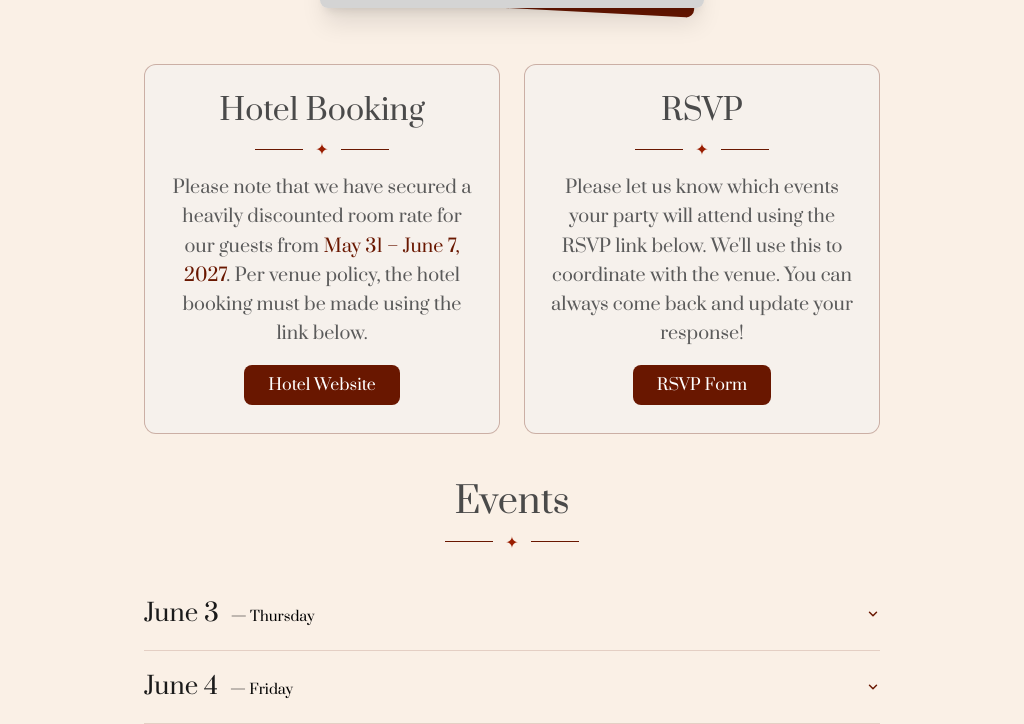
Test: RSVP form — Continue button validation › enables Continue when both names are filled
(page scrolled)
Step 1. Click the button "RSVP Form" → [702, 384], box [633,364,771,404]
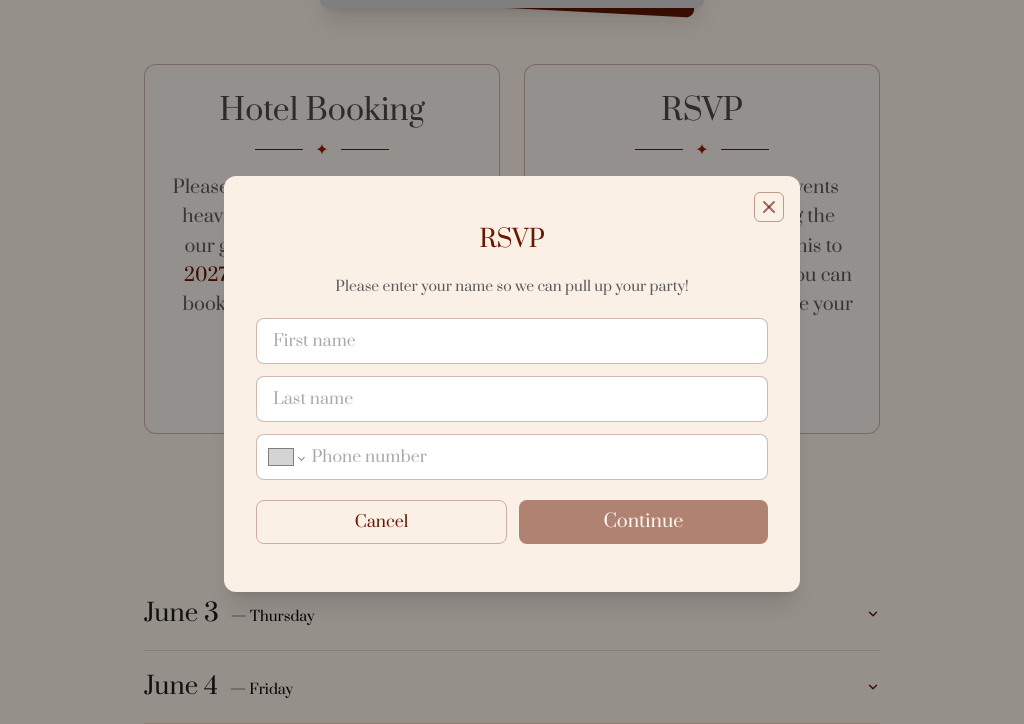
Step 2. Type "John" into the field with placeholder "First name" → [512, 341], box [256,318,768,364]
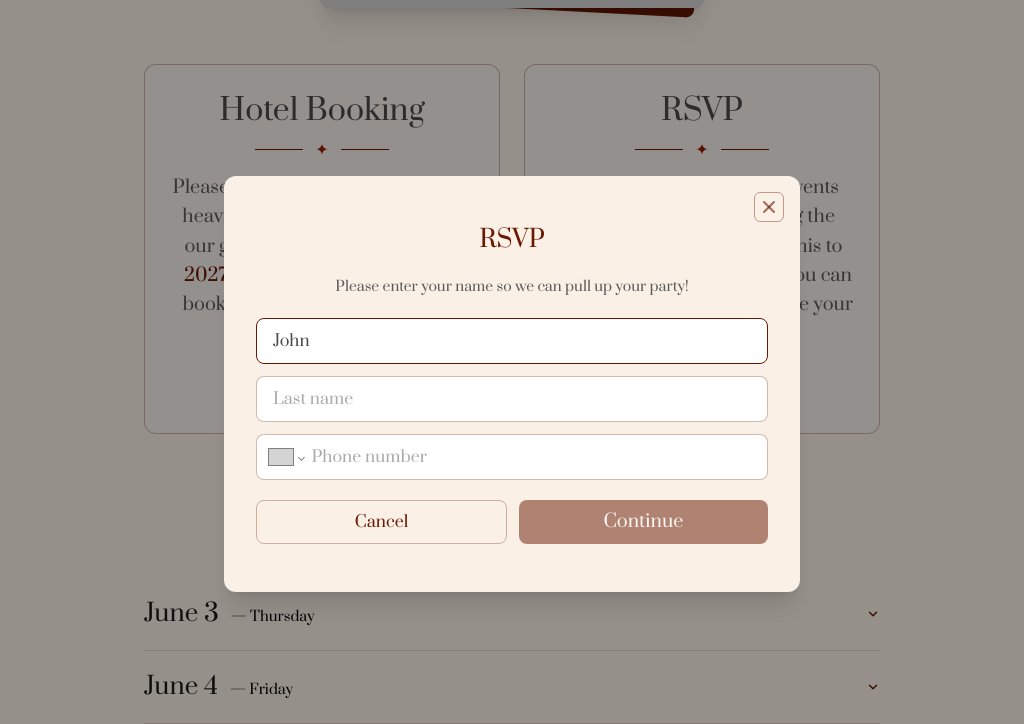
Step 3. Type "Doe" into the field with placeholder "Last name" → [512, 399], box [256,376,768,422]
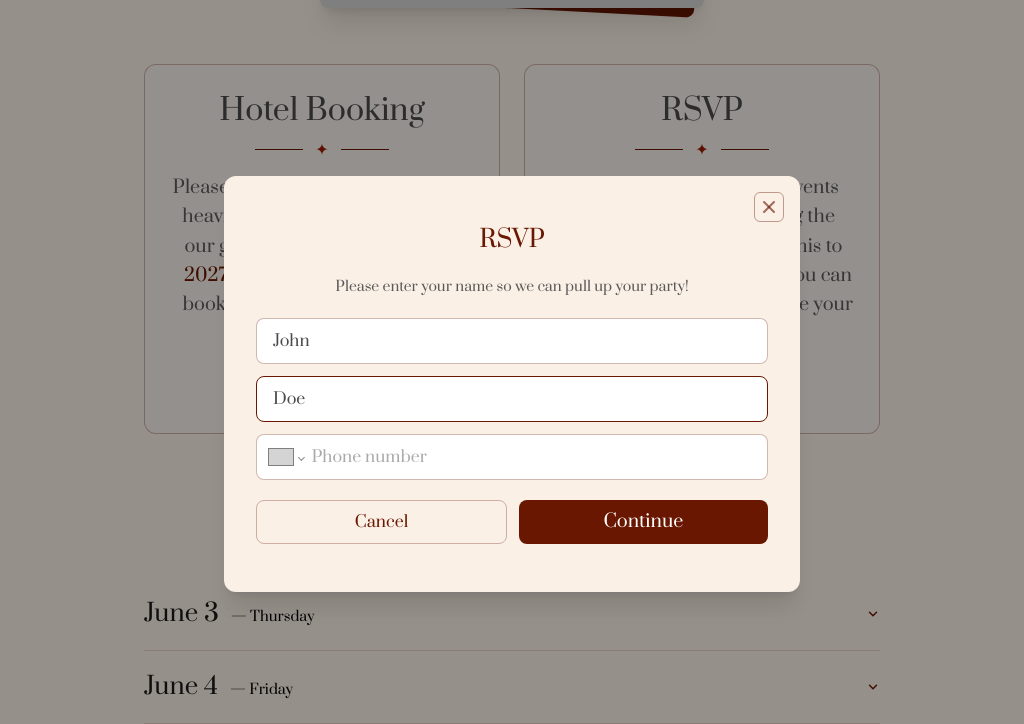
Check: the button "Continue" is enabled, box [519,500,768,544]
